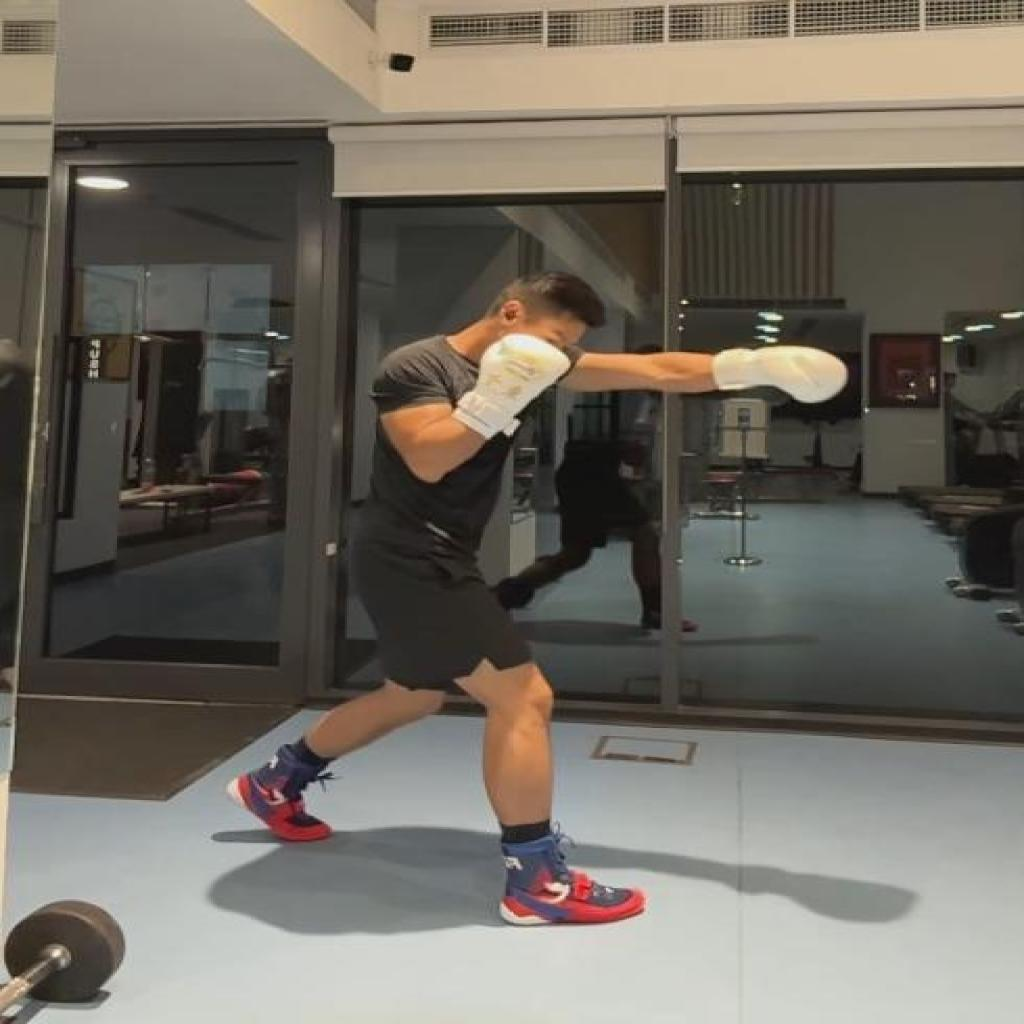cross: (232, 268, 857, 930)
